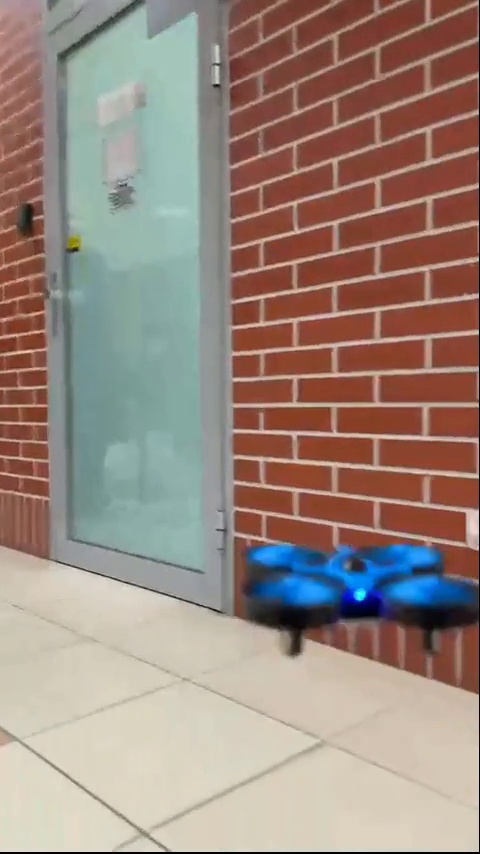drone: (234, 541, 474, 662)
